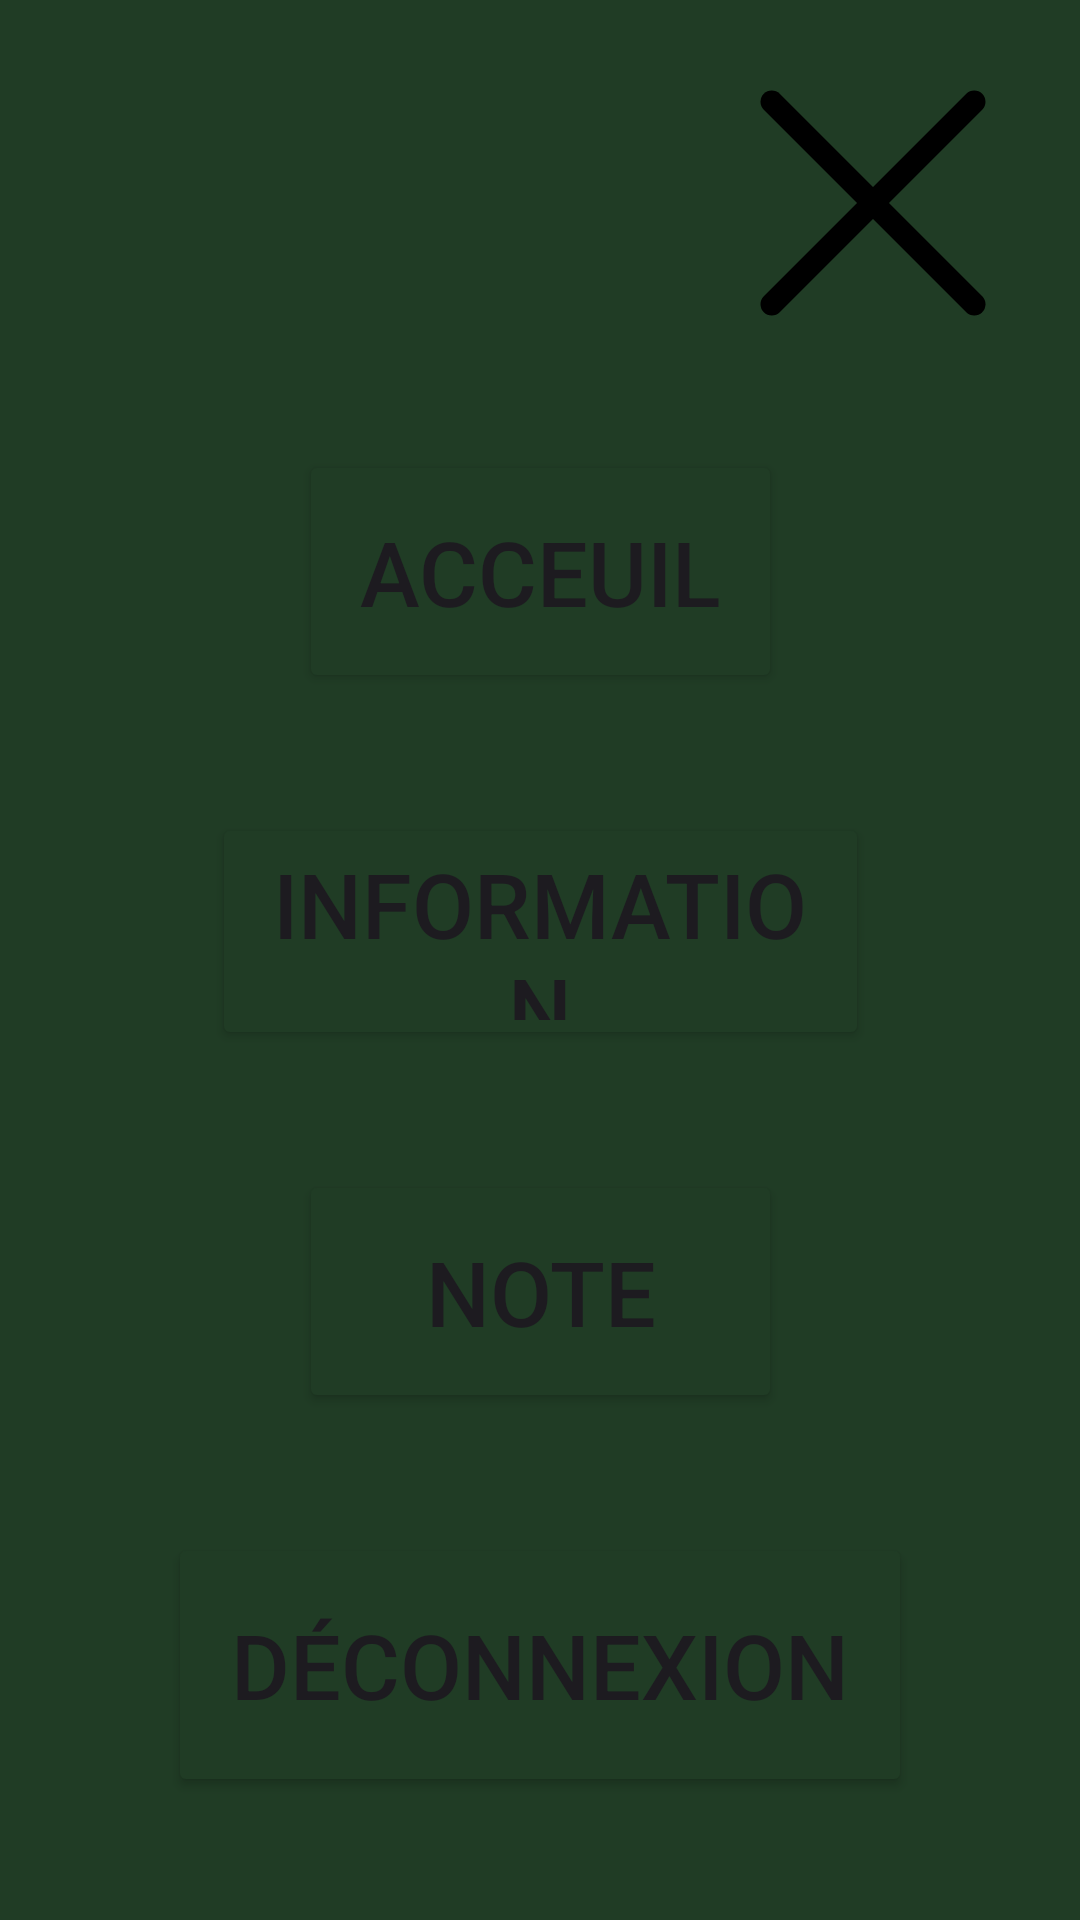

Point at icon controls on the screen. Image size 1080px×1920px, points as (x,y).
croix: (873,203)
